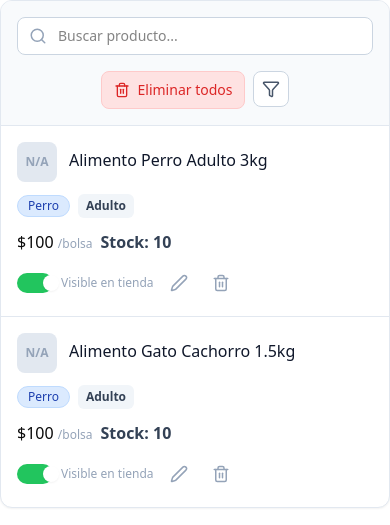
Test case: ProductTable - cards de mobile: filtros y paginación › el buscador de texto acota las cards al producto encontrado
Type "Gato" into the field with placeholder "Buscar producto..." at (195, 36), box top-left (17, 17), bottom-right (373, 55)
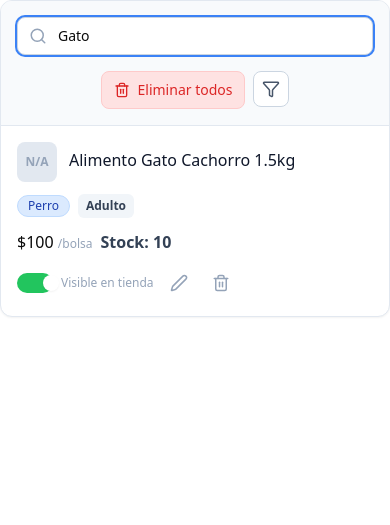
Expected: the list item shows "Alimento Gato Cachorro 1.5kg", top-left (69, 149), bottom-right (295, 171)
Result: the number of list items is 1 at top-left (17, 142), bottom-right (295, 300)
